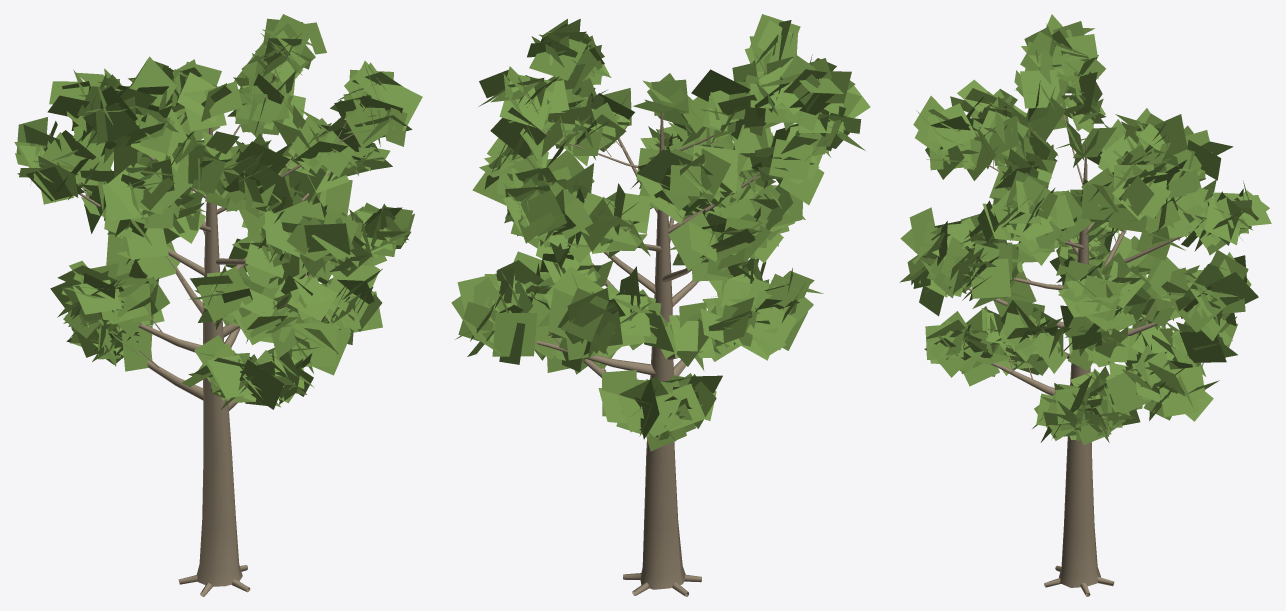
The model's file is oak-3-lod0.glb.
3 renders of one model, left to right at view 1: azimuth 30°, elevation 25°; view 2: azimuth 150°, elevation 25°; view 3: azimuth 270°, elevation 25°, orthographic. The views are drawn at different scales.
Parts seen in each view (by area): view 1: oak-3-lod0-foliage, oak-3-lod0-bark; view 2: oak-3-lod0-foliage, oak-3-lod0-bark; view 3: oak-3-lod0-foliage, oak-3-lod0-bark.
Boxes of the visible parts, box(x1,y1,x2,y2) form: oak-3-lod0-foliage: box(14, 14, 422, 410); oak-3-lod0-bark: box(78, 62, 389, 596); oak-3-lod0-foliage: box(451, 14, 870, 451); oak-3-lod0-bark: box(536, 72, 763, 596); oak-3-lod0-foliage: box(899, 14, 1271, 445); oak-3-lod0-bark: box(936, 114, 1207, 596).
Bounding box in the file's own units: 20.7 × 31.02 × 21.03.
